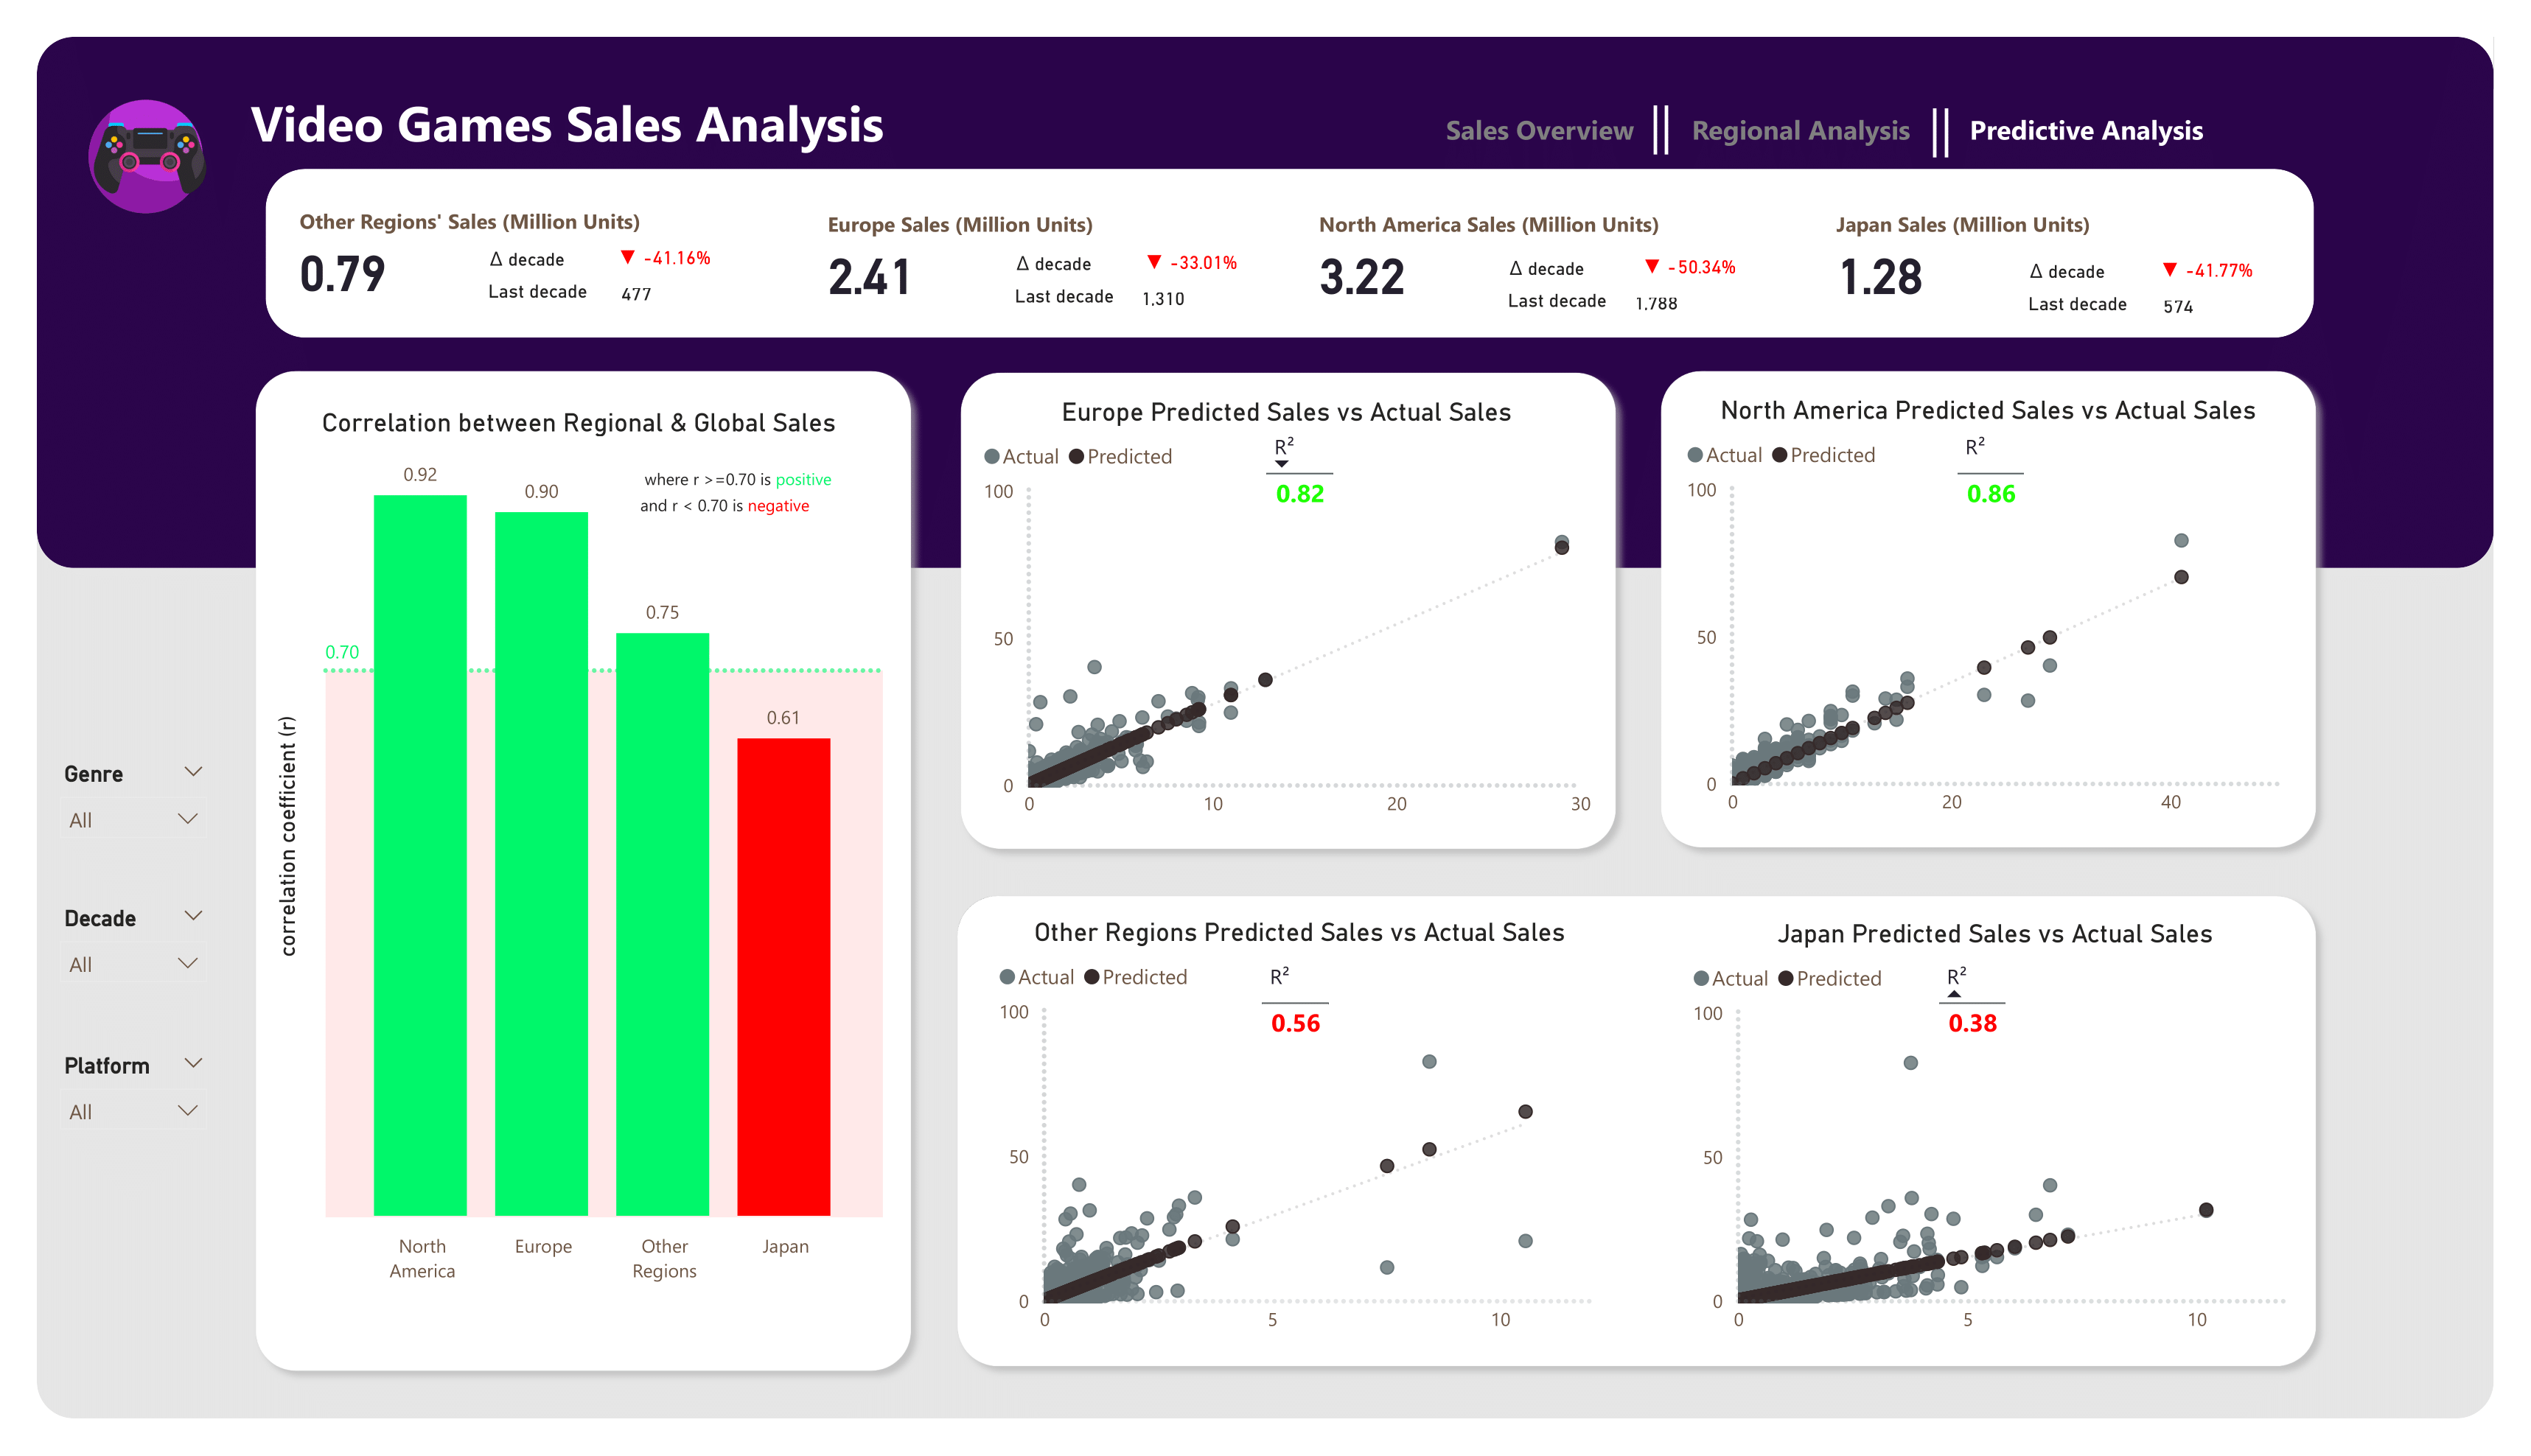

What the dashboard file says about the page in this screenshot:
{"tool":"powerbi","page":{"name":"Predictive analysis","canvas":[1600,900],"ordinal":2},"visuals":[{"type":"group","id":"g1","title":"wireframe","box":[0,0,1600,900],"z":0},{"type":"actionButton","box":[885.4,39.8,187.5,40],"z":0,"group":"g12"},{"type":"cardVisual","fields":{"Data":["vgsales.others_kpi_dax"]},"box":[153.9,94,310.9,99.4],"z":0,"group":"g11"},{"type":"cardVisual","fields":{"Data":["vgsales.eu_kpi_dax"]},"box":[498.1,96,310.9,99.4],"z":0,"group":"g9"},{"type":"group","id":"g2","title":"kpi sales description","box":[818.4,96,310.9,99.4],"z":0,"group":"g4"},{"type":"group","id":"g3","title":"jp kpi","box":[1155.4,96,310.7,100],"z":0,"group":"g13"},{"type":"cardVisual","fields":{"Data":["vgsales.jp_kpi_dax"]},"box":[1155.4,96,310.9,99.4],"z":0,"group":"g3"},{"type":"card","fields":{"Values":["vgsales.other_label_DoD"]},"box":[366.1,130.4,84.7,22.5],"z":0,"group":"g5"},{"type":"card","fields":{"Values":["vgsales.eu_label_DoD"]},"box":[709.4,133.6,84.7,22.5],"z":0,"group":"g6"},{"type":"card","fields":{"Values":["vgsales.na_label_DoD"]},"box":[1028.3,136,95.7,22.3],"z":0,"group":"g2"},{"type":"card","fields":{"Values":["vgsales.jp_label_DoD"]},"box":[1370.3,138.1,85.8,22.4],"z":0,"group":"g7"},{"type":"shape","box":[0,202,1600,698],"z":0,"group":"g1"},{"type":"scatterChart","title":"Europe Predicted Sales vs Actual Sales","fields":{"X":["vgsales.EU_Sales"],"Y":["CombinedPlot_EU.Global_Sales"],"Series":["CombinedPlot_EU.Type"]},"box":[610.6,233.8,406,284],"z":0,"group":"g10"},{"type":"slicer","fields":{"Values":["YearRangeSort.year_range"]},"box":[4.5,561,116,68],"z":0,"group":"g8"},{"type":"shape","box":[0,0,1600,346],"z":1000,"group":"g1"},{"type":"actionButton","box":[1055.4,39.4,188,40],"z":1000,"group":"g12"},{"type":"group","id":"g4","title":"na kpi","box":[818.4,96,310.9,99.4],"z":1000,"group":"g13"},{"type":"cardVisual","fields":{"Data":["vgsales.na_kpi_dax"]},"box":[818.4,96,310.9,99.4],"z":1000,"group":"g2"},{"type":"group","id":"g5","title":"kpi sales description","box":[289,130.2,160.6,49],"z":1000,"group":"g11"},{"type":"group","id":"g6","title":"kpi sales description","box":[632.3,133.4,160.6,49],"z":1000,"group":"g9"},{"type":"group","id":"g7","title":"kpi sales description","box":[1292.3,137.9,163.9,47.9],"z":1000,"group":"g3"},{"type":"card","fields":{"Values":["vgsales.other_PD"]},"box":[364.3,151.8,52.6,20.7],"z":1000,"group":"g5"},{"type":"card","fields":{"Values":["vgsales.eu_PD"]},"box":[707.6,155,52.6,20.7],"z":1000,"group":"g6"},{"type":"card","fields":{"Values":["vgsales.jp_PD"]},"box":[1368.5,159.4,53.3,20.7],"z":1000,"group":"g7"},{"type":"scatterChart","title":"North America Predicted Sales vs Actual Sales","fields":{"X":["CombinedPlot_NA.NA_Sales"],"Y":["CombinedPlot_NA.Global_Sales"],"Series":["CombinedPlot_NA.Type"]},"box":[1069.1,233.3,404,284],"z":1000,"group":"g10"},{"type":"group","id":"g8","title":"Slicers","box":[4.5,467,116,258],"z":1000},{"type":"slicer","fields":{"Values":["vgsales.Platform"]},"box":[4.5,657,116,68],"z":1000,"group":"g8"},{"type":"textbox","box":[134,28,428,102],"z":2000},{"type":"textbox","box":[1227.4,31.4,44,84],"z":2000,"group":"g12"},{"type":"shape","box":[149,86,1334,110],"z":2000,"group":"g1"},{"type":"group","id":"g9","title":"eu kpi","box":[498.1,96,313.1,98],"z":2000,"group":"g13"},{"type":"textbox","box":[289,151.4,104.3,26.9],"z":2000,"group":"g5"},{"type":"textbox","box":[632.3,154.6,104.3,26.9],"z":2000,"group":"g6"},{"type":"card","fields":{"Values":["vgsales.na_PD"]},"box":[1028.4,157.4,52.6,20.7],"z":2000,"group":"g2"},{"type":"textbox","box":[1292.3,159,105.6,26.8],"z":2000,"group":"g7"},{"type":"slicer","fields":{"Values":["vgsales.Genre"]},"box":[4.5,467,116,68],"z":2000,"group":"g8"},{"type":"scatterChart","title":"Japan Predicted Sales vs Actual Sales","fields":{"X":["CombinedPlot_JP.JP_Sales"],"Y":["CombinedPlot_JP.Global_Sales"],"Series":["CombinedPlot_JP.Type"]},"box":[1073.4,574.4,404.7,279.5],"z":2000,"group":"g10"},{"type":"textbox","box":[1045,29.4,45,83.3],"z":3000,"group":"g12"},{"type":"group","id":"g10","title":"Visualization","box":[150.3,94,1327.8,760.1],"z":3000},{"type":"group","id":"g11","title":"other kpi","box":[153.9,94,310.9,99.4],"z":3000,"group":"g13"},{"type":"textbox","box":[289.6,130.2,89,27.3],"z":3000,"group":"g5"},{"type":"textbox","box":[632.9,133.4,89,27.3],"z":3000,"group":"g6"},{"type":"textbox","box":[1292.9,137.9,90.1,27.2],"z":3000,"group":"g7"},{"type":"textbox","box":[953.2,157,104.3,26.9],"z":3000,"group":"g2"},{"type":"shape","box":[134,209.1,444.3,668.6],"z":3000,"group":"g1"},{"type":"scatterChart","title":"Other Regions Predicted Sales vs Actual Sales","fields":{"X":["CombinedPlot_Other.Other_Sales"],"Y":["CombinedPlot_Other.Global_Sales"],"Series":["CombinedPlot_Other.Type"]},"box":[621.2,573.5,403.3,280.6],"z":3000,"group":"g10"},{"type":"image","box":[22.5,35,98.8,86.2],"z":4000},{"type":"actionButton","box":[1241.4,39.4,188,40],"z":4000,"group":"g12"},{"type":"textbox","box":[953.8,135.8,89,27.3],"z":4000,"group":"g2"},{"type":"textbox","box":[388.2,273.5,143.3,78.3],"z":4000,"group":"g10"},{"type":"shape","box":[591,551.2,902.2,324.4],"z":4000,"group":"g1"},{"type":"group","id":"g12","title":"buttons","box":[885.4,29.4,544,86],"z":5000},{"type":"group","id":"g13","title":"KPI cards","box":[153.9,94,1312.2,102],"z":5000,"group":"g10"},{"type":"shape","box":[1049,209.3,444,328],"z":5000,"group":"g1"},{"type":"shape","box":[592.5,209.8,444,328],"z":6000,"group":"g1"},{"type":"columnChart","title":"Correlation between Regional & Global Sales","fields":{"Y":["CorrelationAxis.RegionalCorrelationValue"],"Category":["CorrelationAxis.Region"]},"box":[150.3,240.8,406.2,578.2],"z":6000,"group":"g10"},{"type":"tableEx","fields":{"Values":["vgsales.Rsquared_EU"]},"box":[795,251.7,90,83.3],"z":6000},{"type":"tableEx","fields":{"Values":["vgsales.Rsquared_NA"]},"box":[1245,251.7,90,83.3],"z":7000},{"type":"tableEx","fields":{"Values":["vgsales.Rsquared_others"]},"box":[791.7,596.7,90,83.3],"z":8000},{"type":"tableEx","fields":{"Values":["vgsales.Rsquared_JP"]},"box":[1233.3,596.7,90,83.3],"z":9000}]}

Visuals, with their boxes on the page's 1600x900 design canvas (x1, y1, x2, y2). These are canvas units, not pixel positions in the 2531x1456 screenshot, which may show the page scaled, cropped or inside an application window:
"wireframe" group: bbox(0, 0, 1600, 900)
actionButton: bbox(885, 40, 1073, 80)
cardVisual - vgsales.others_kpi_dax: bbox(154, 94, 465, 193)
cardVisual - vgsales.eu_kpi_dax: bbox(498, 96, 809, 195)
"kpi sales description" group: bbox(818, 96, 1129, 195)
"jp kpi" group: bbox(1155, 96, 1466, 196)
cardVisual - vgsales.jp_kpi_dax: bbox(1155, 96, 1466, 195)
card - vgsales.other_label_DoD: bbox(366, 130, 451, 153)
card - vgsales.eu_label_DoD: bbox(709, 134, 794, 156)
card - vgsales.na_label_DoD: bbox(1028, 136, 1124, 158)
card - vgsales.jp_label_DoD: bbox(1370, 138, 1456, 160)
shape: bbox(0, 202, 1600, 900)
"Europe Predicted Sales vs Actual Sales" scatterChart: bbox(611, 234, 1017, 518)
slicer - YearRangeSort.year_range: bbox(4, 561, 120, 629)
shape: bbox(0, 0, 1600, 346)
actionButton: bbox(1055, 39, 1243, 79)
"na kpi" group: bbox(818, 96, 1129, 195)
cardVisual - vgsales.na_kpi_dax: bbox(818, 96, 1129, 195)
"kpi sales description" group: bbox(289, 130, 450, 179)
"kpi sales description" group: bbox(632, 133, 793, 182)
"kpi sales description" group: bbox(1292, 138, 1456, 186)
card - vgsales.other_PD: bbox(364, 152, 417, 172)
card - vgsales.eu_PD: bbox(708, 155, 760, 176)
card - vgsales.jp_PD: bbox(1368, 159, 1422, 180)
"North America Predicted Sales vs Actual Sales" scatterChart: bbox(1069, 233, 1473, 517)
"Slicers" group: bbox(4, 467, 120, 725)
slicer - vgsales.Platform: bbox(4, 657, 120, 725)
textbox: bbox(134, 28, 562, 130)
textbox: bbox(1227, 31, 1271, 115)
shape: bbox(149, 86, 1483, 196)
"eu kpi" group: bbox(498, 96, 811, 194)
textbox: bbox(289, 151, 393, 178)
textbox: bbox(632, 155, 737, 182)
card - vgsales.na_PD: bbox(1028, 157, 1081, 178)
textbox: bbox(1292, 159, 1398, 186)
slicer - vgsales.Genre: bbox(4, 467, 120, 535)
"Japan Predicted Sales vs Actual Sales" scatterChart: bbox(1073, 574, 1478, 854)
textbox: bbox(1045, 29, 1090, 113)
"Visualization" group: bbox(150, 94, 1478, 854)
"other kpi" group: bbox(154, 94, 465, 193)
textbox: bbox(290, 130, 379, 158)
textbox: bbox(633, 133, 722, 161)
textbox: bbox(1293, 138, 1383, 165)
textbox: bbox(953, 157, 1058, 184)
shape: bbox(134, 209, 578, 878)
"Other Regions Predicted Sales vs Actual Sales" scatterChart: bbox(621, 574, 1024, 854)
image: bbox(22, 35, 121, 121)
actionButton: bbox(1241, 39, 1429, 79)
textbox: bbox(954, 136, 1043, 163)
textbox: bbox(388, 274, 532, 352)
shape: bbox(591, 551, 1493, 876)
"buttons" group: bbox(885, 29, 1429, 115)
"KPI cards" group: bbox(154, 94, 1466, 196)
shape: bbox(1049, 209, 1493, 537)
shape: bbox(592, 210, 1036, 538)
"Correlation between Regional & Global Sales" columnChart: bbox(150, 241, 556, 819)
tableEx - vgsales.Rsquared_EU: bbox(795, 252, 885, 335)
tableEx - vgsales.Rsquared_NA: bbox(1245, 252, 1335, 335)
tableEx - vgsales.Rsquared_others: bbox(792, 597, 882, 680)
tableEx - vgsales.Rsquared_JP: bbox(1233, 597, 1323, 680)
